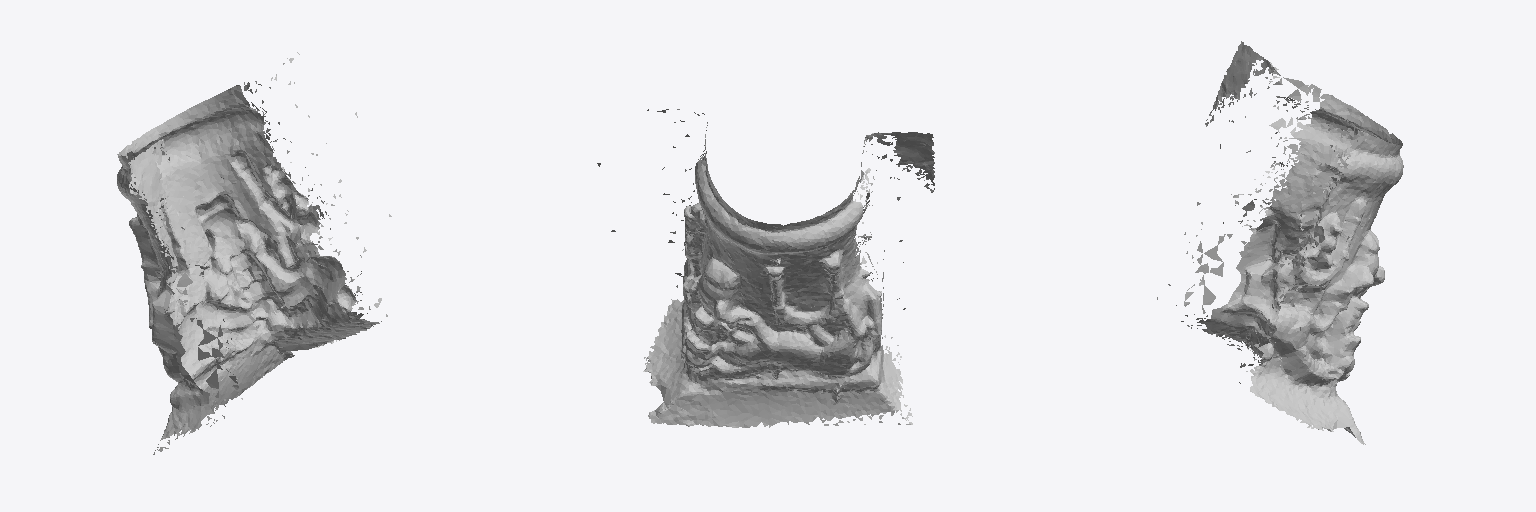
File: chapiteau.obj
3 views of the same model, side by side, from view 1: azimuth 30°, elevation 25°; view 2: azimuth 150°, elevation 25°; view 3: azimuth 270°, elevation 25° (orthographic).
Size of the model in its own units: 4.27 by 4.36 by 3.11.